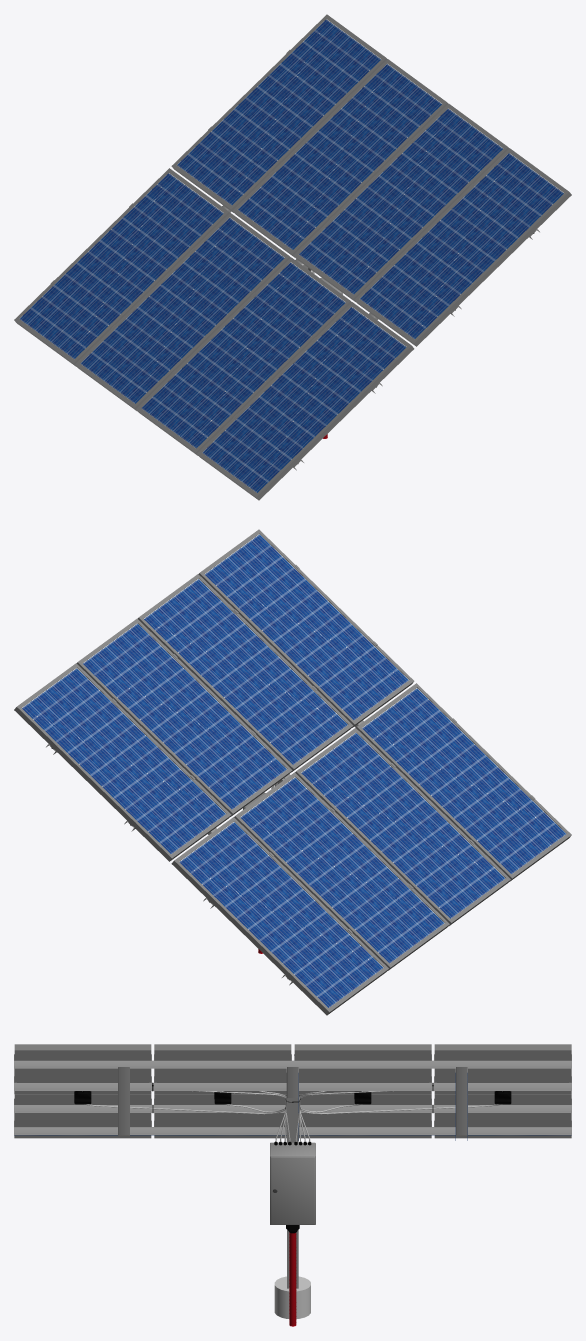
Rendered from Panel solar (2).fbx.
3 renders of one model, top to bottom at view 1: azimuth 30°, elevation 25°; view 2: azimuth 150°, elevation 25°; view 3: azimuth 270°, elevation 25°, orthographic. The views are drawn at different scales.
Parts seen in each view (by area): view 1: Panel_solar__2_; view 2: Panel_solar__2_; view 3: Panel_solar__2_.
Boxes of the visible parts, x1,y1,x2,y2 form: Panel_solar__2_: [14, 14, 571, 500]; Panel_solar__2_: [14, 529, 571, 1015]; Panel_solar__2_: [14, 1044, 571, 1326].
Size of the model in its own units: 454 by 420 by 606.
